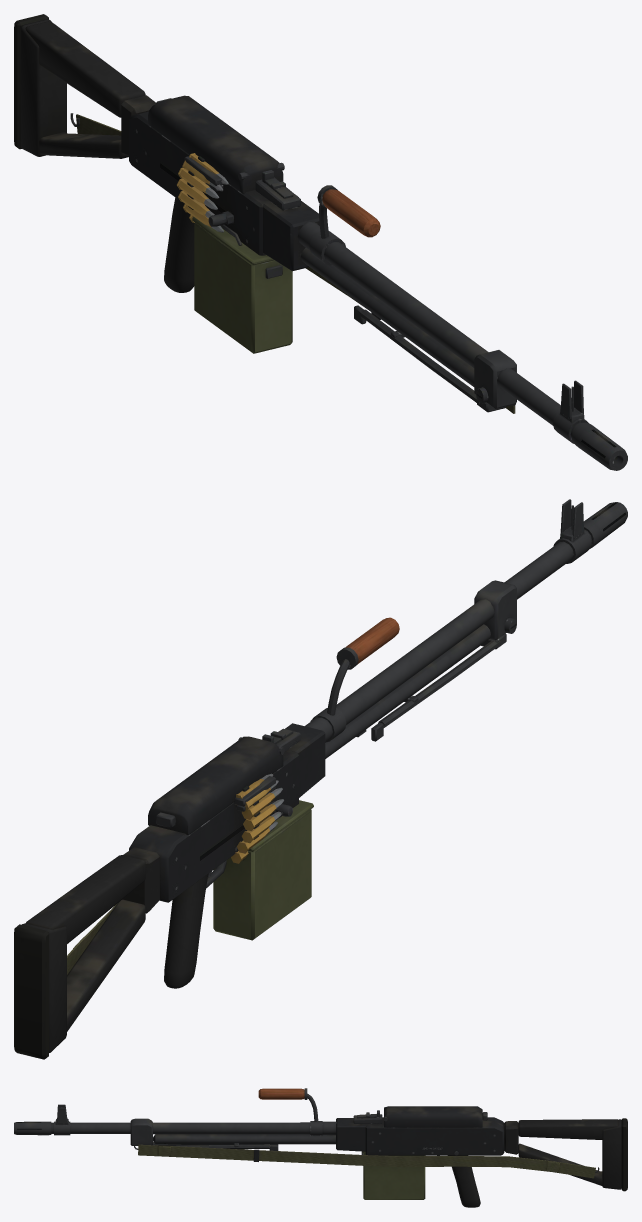
Rendered from pkm.glb.
3 renders of one model, top to bottom at view 1: azimuth 30°, elevation 25°; view 2: azimuth 150°, elevation 25°; view 3: azimuth 270°, elevation 25°, orthographic. The views are drawn at different scales.
Visible parts, largest first — view 1: pkm_mesh; view 2: pkm_mesh; view 3: pkm_mesh.
Boxes of the visible parts, bbox=[...] form: pkm_mesh: bbox=[14, 14, 627, 470]; pkm_mesh: bbox=[14, 499, 627, 1059]; pkm_mesh: bbox=[14, 1088, 627, 1207].
Size of what is drawn, in the model's own units: 0.0827 by 0.2637 by 1.28.
Materials: 1 (1 with a texture image).
